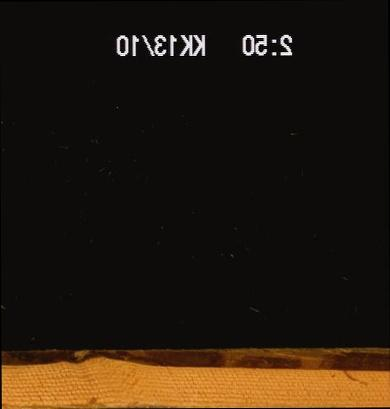wave: (0, 347, 388, 369)
